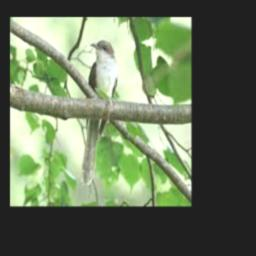Cuckoo: (82, 40, 118, 186)
